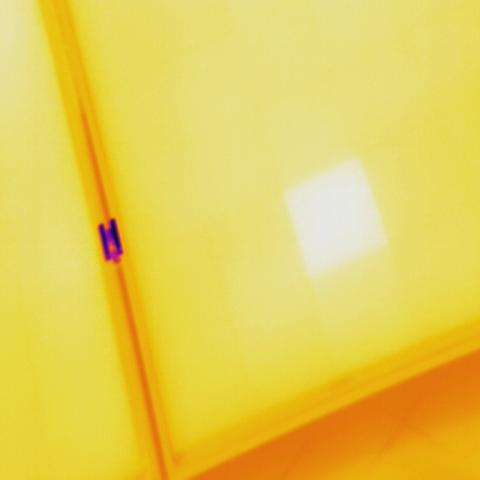fault: (283, 153, 392, 275)
